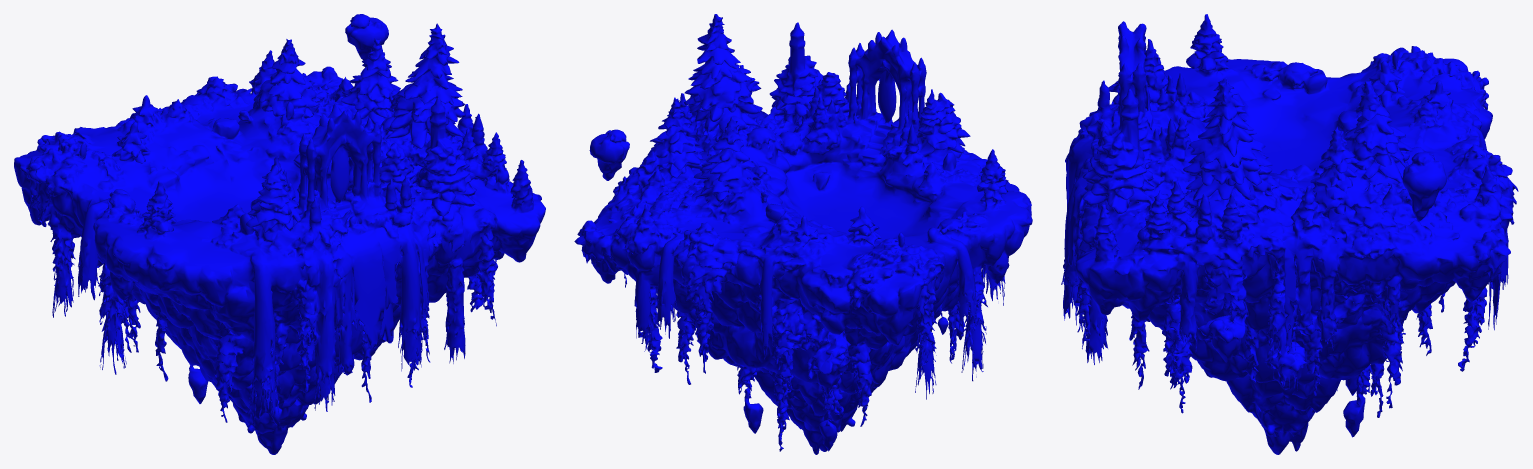
The model's file is skyfall.glb.
3 views of the same model, side by side, from view 1: azimuth 30°, elevation 25°; view 2: azimuth 150°, elevation 25°; view 3: azimuth 270°, elevation 25° (orthographic). The views are drawn at different scales.
Bounding box in the file's own units: 1.84 × 1.89 × 1.74.
1 material, 1 textured.
